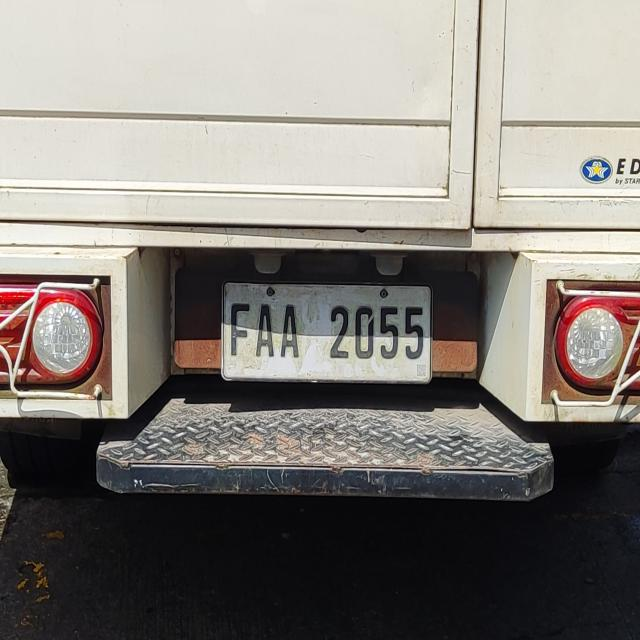LicensePlate: (207, 273, 437, 396)
